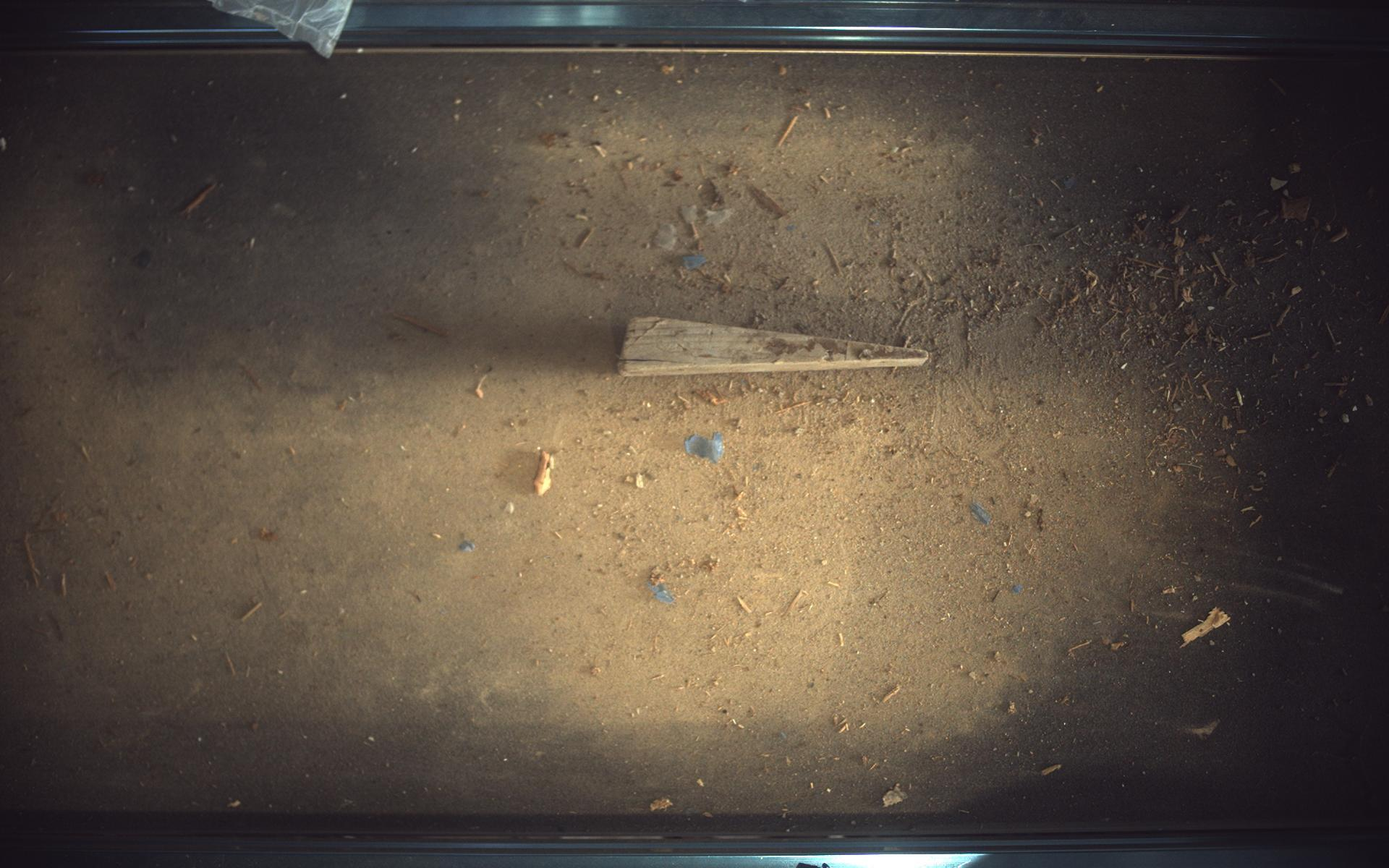wood: (619, 316, 932, 376)
